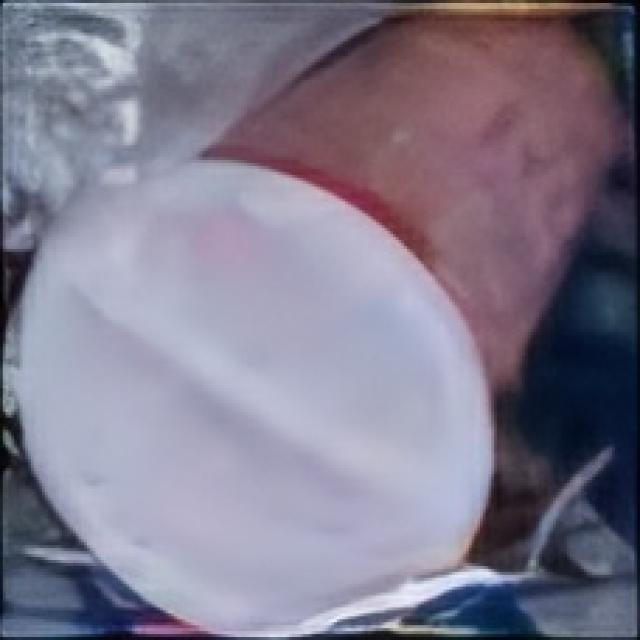plastic cup: (36, 0, 640, 619)
